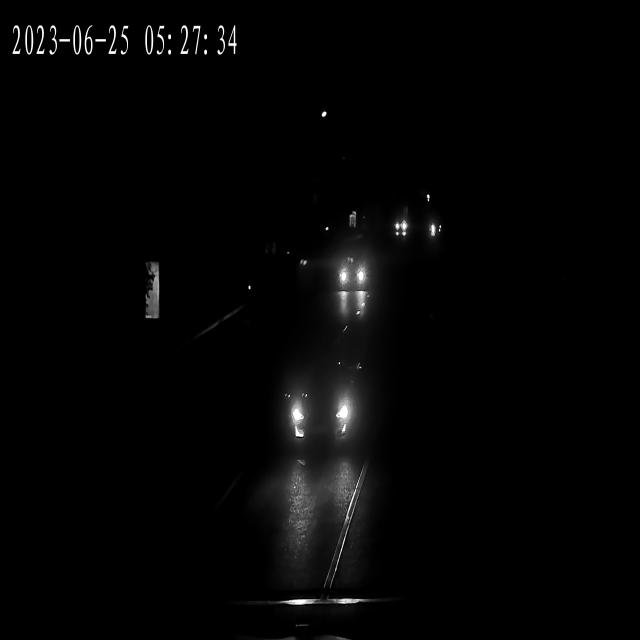Car: (282, 349, 366, 461), (335, 253, 369, 301), (394, 213, 408, 242)
